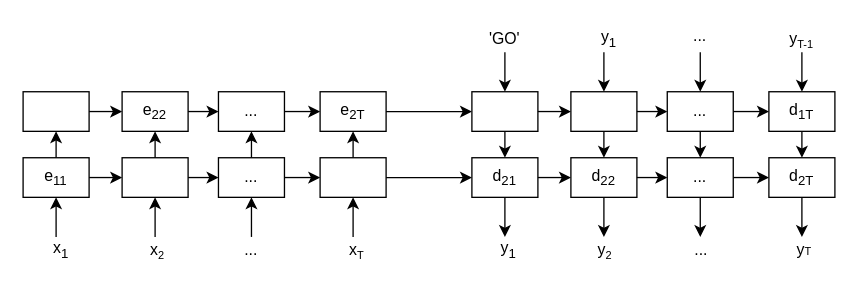
The diagram is 858 pixels wide and 285 high, and some of its shapes have lost their labels. The centre of each missing label's shape, as x and y in pixels:
"d 11" goes at (504,110).
"d 12" goes at (603,110).
"e 12" goes at (154,176).
"e 1T" goes at (352,176).
"e 21" goes at (55,110).
